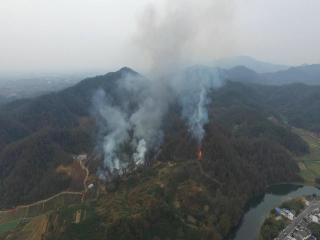smoke: (88, 4, 215, 179)
